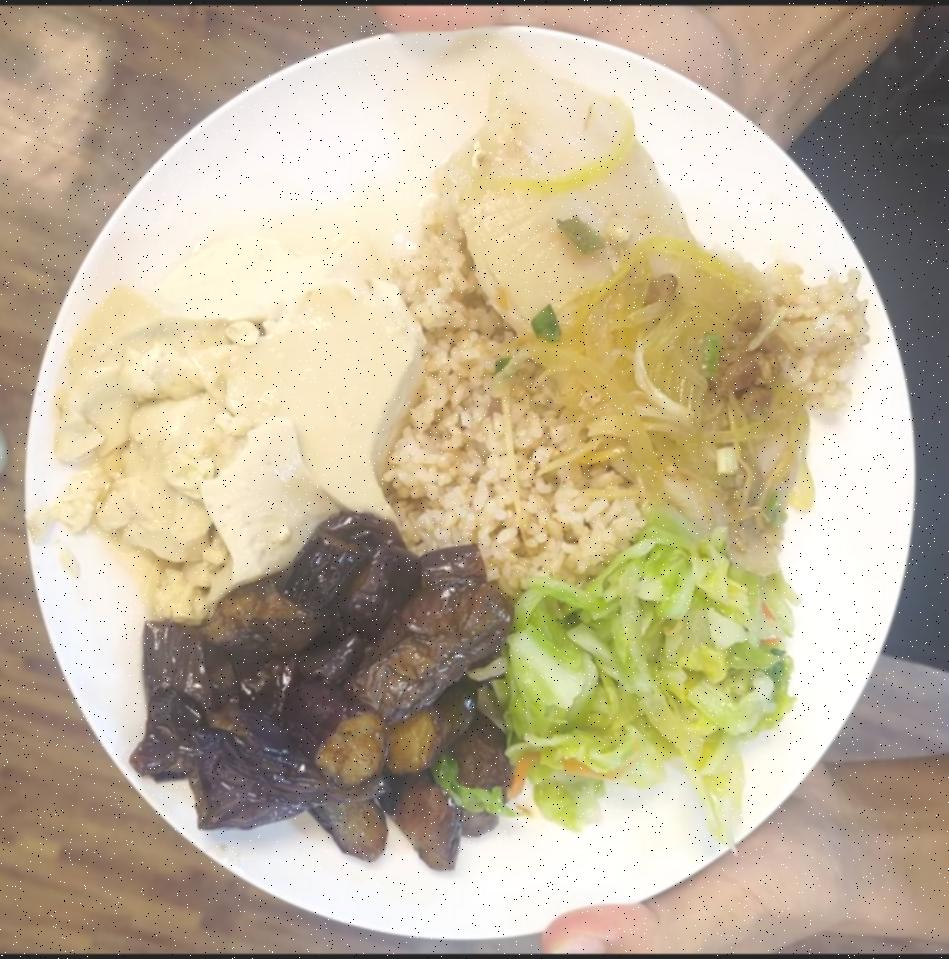brown rice: (394, 204, 674, 596)
plate: (17, 21, 934, 934)
side dish: (57, 213, 420, 560), (137, 538, 511, 856), (506, 538, 798, 824)
steamed fish fillet: (446, 54, 810, 526)
